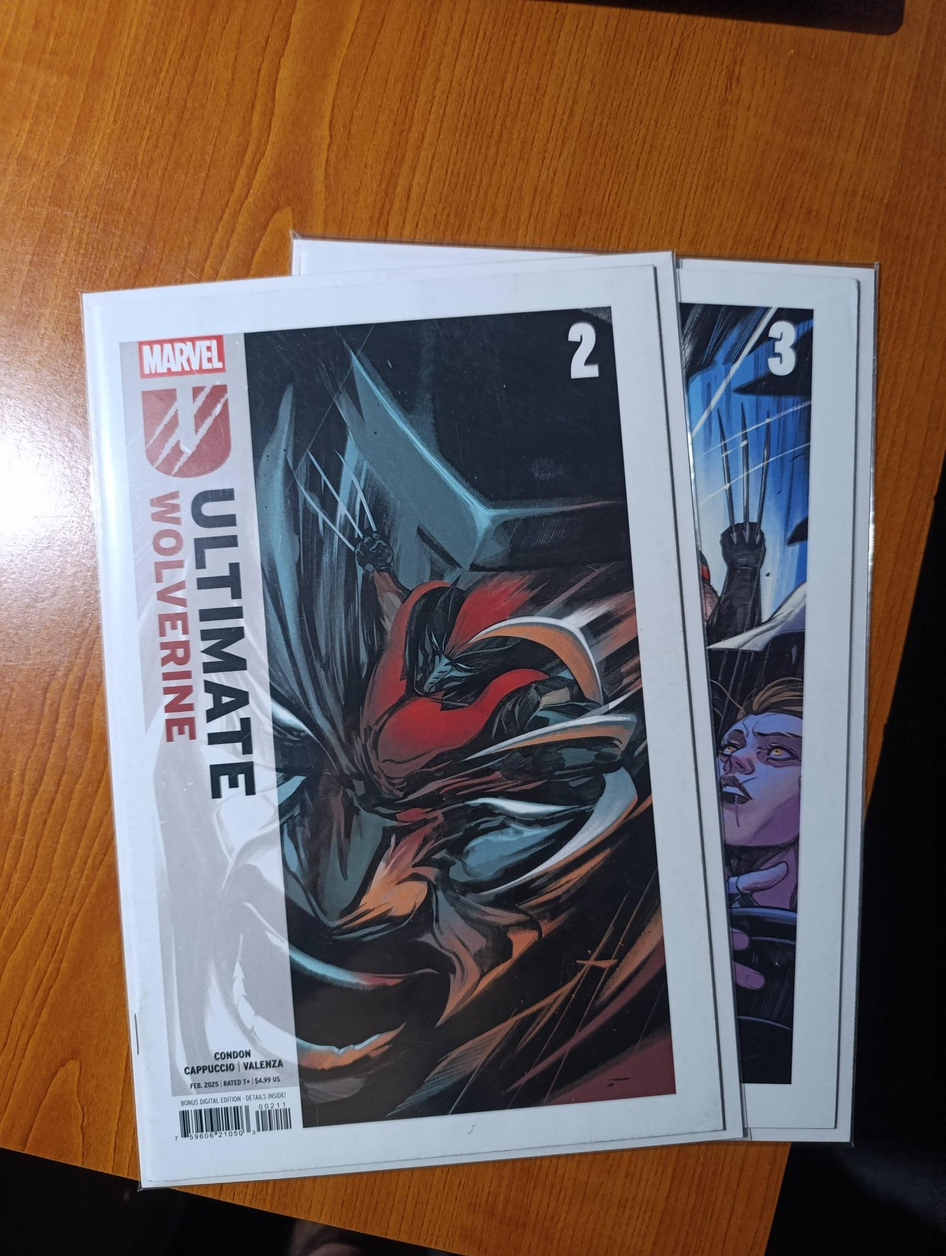comic: (77, 250, 741, 1184)
